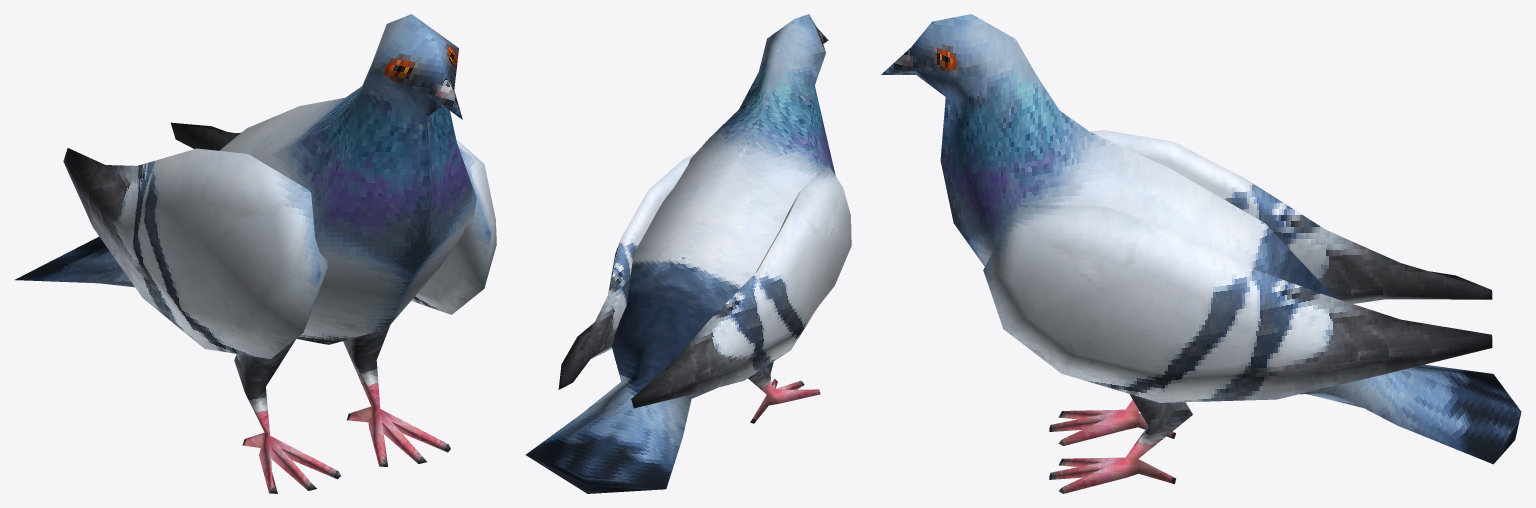
Rendered from low-poly_pigeon.glb.
The picture shows the model from 3 angles, left to right: view 1: azimuth 30°, elevation 25°; view 2: azimuth 150°, elevation 25°; view 3: azimuth 270°, elevation 25°; orthographic projection. The views are drawn at different scales.
Visible parts, largest first — view 1: Plane.001; view 2: Plane.001; view 3: Plane.001.
Boxes of the visible parts, bbox=[...] form: Plane.001: bbox=[15, 14, 496, 493]; Plane.001: bbox=[525, 14, 851, 493]; Plane.001: bbox=[881, 14, 1521, 493].
Size of the model in its own units: 0.0371 by 0.0726 by 0.0946.
Materials: 1 (1 with a texture image).
